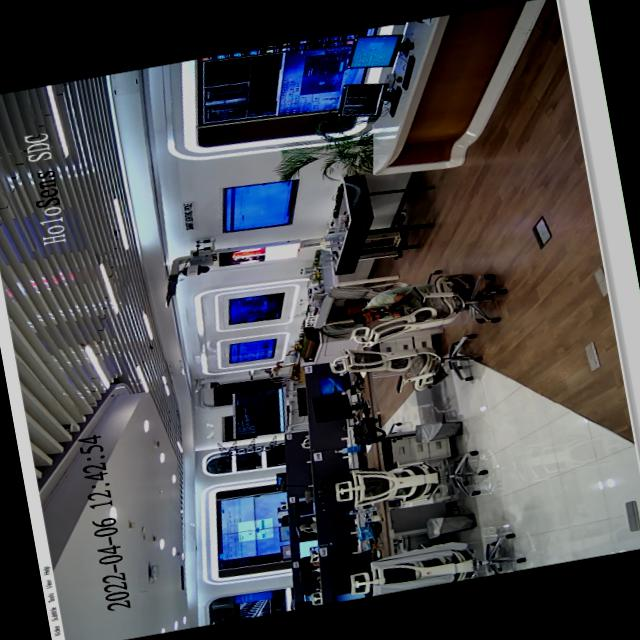long weapon: (369, 296, 402, 322)
